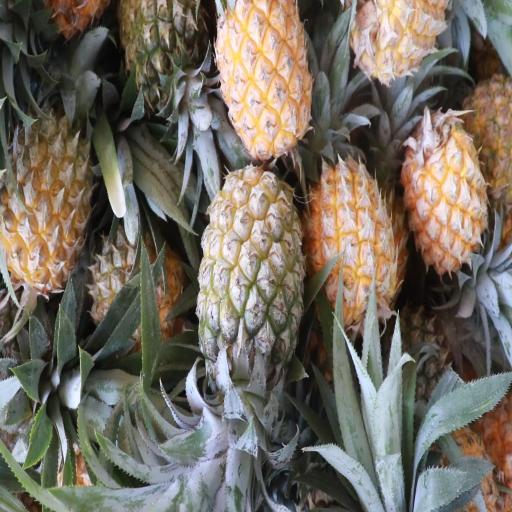------------------------------: (197, 166, 303, 386), (88, 214, 184, 341)
Pineapple - v8 v1: (0, 107, 96, 286), (216, 0, 314, 154), (310, 160, 397, 328), (403, 106, 488, 276)
